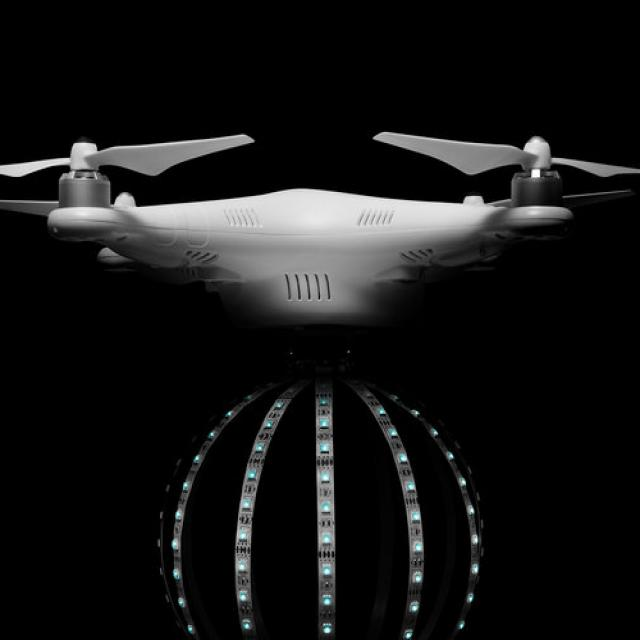drone: (0, 87, 640, 351)
